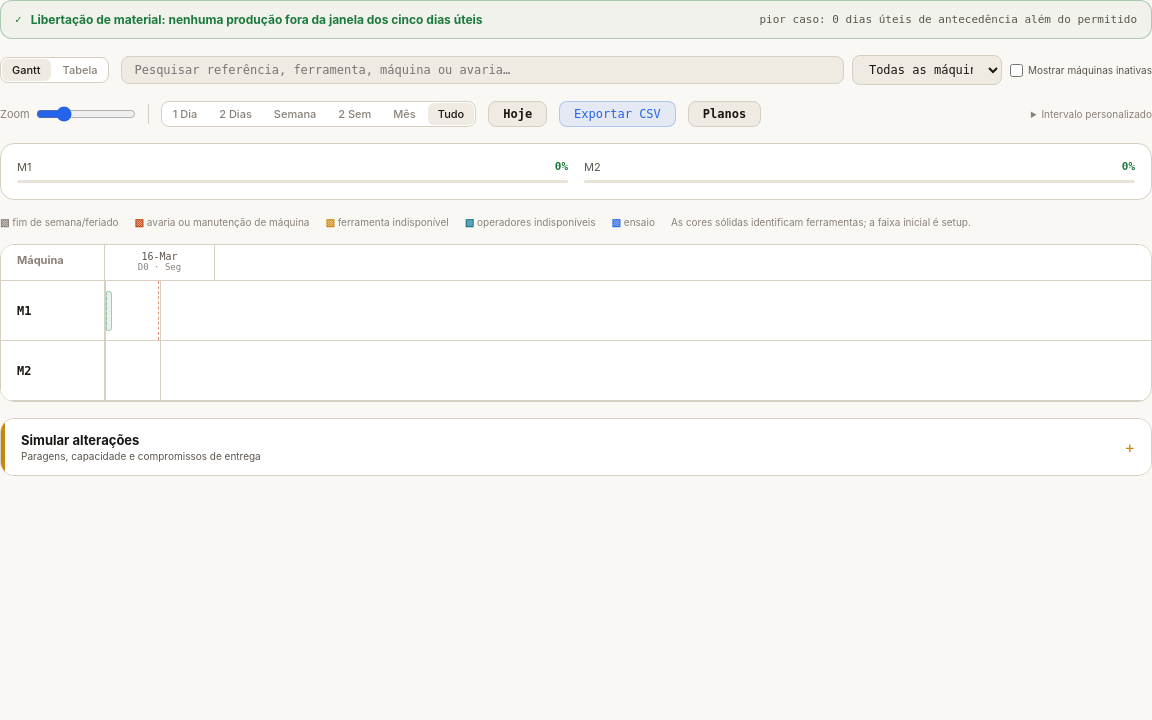
Scenario: GanttPage › mostra ocupação 0 quando a capacidade real do dia é 0
The image size is (1152, 720).
Expected: the 1st text "0%" is shown, [555,160,568,174]
Click the button "1 Dia": click(185, 114) [163,103,207,125]
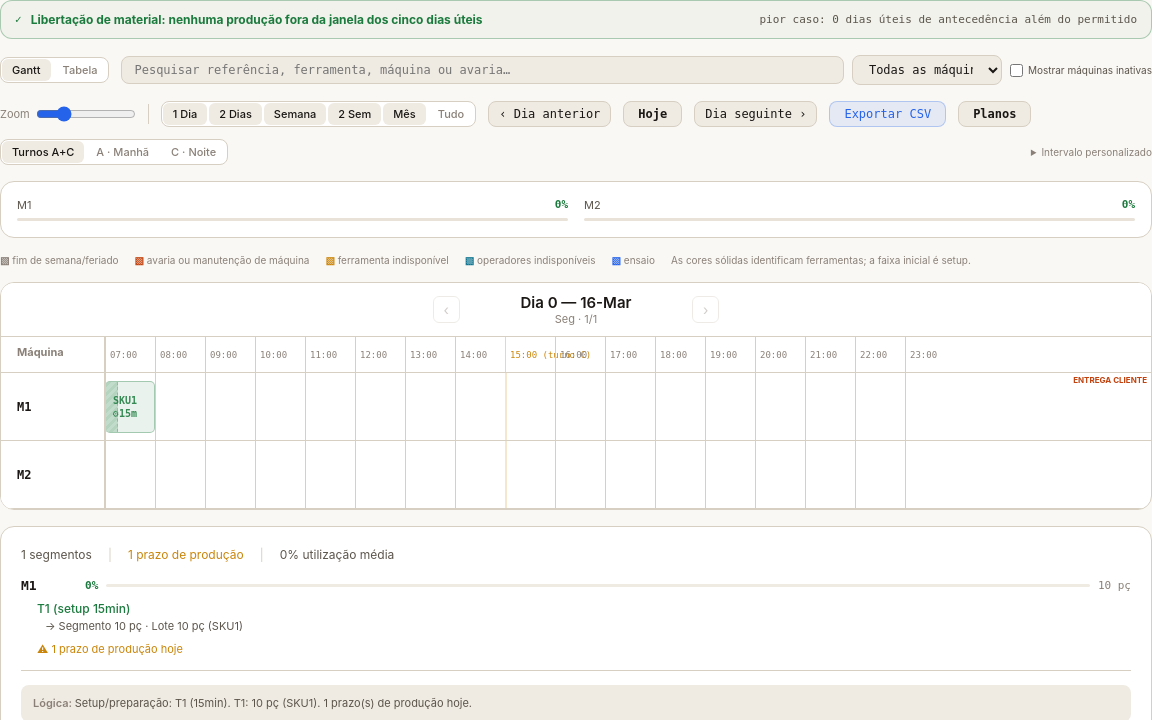
Now the text "0% utilização média" is shown, box [280,547,394,562]
